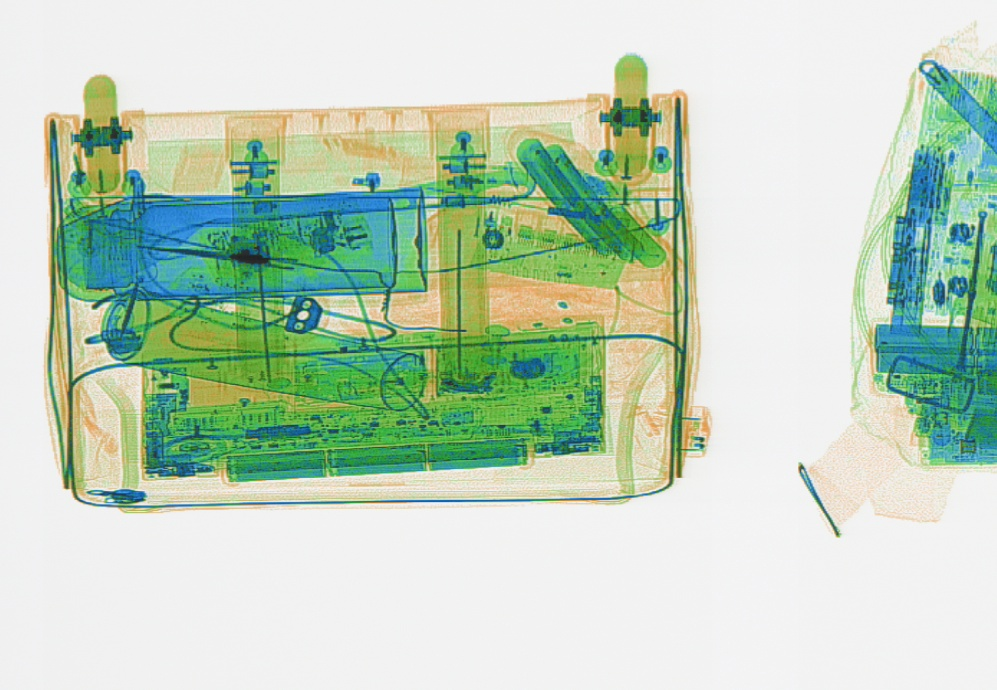powerbank: (503, 119, 670, 266), (866, 312, 991, 395)
pressure: (96, 282, 427, 412)
